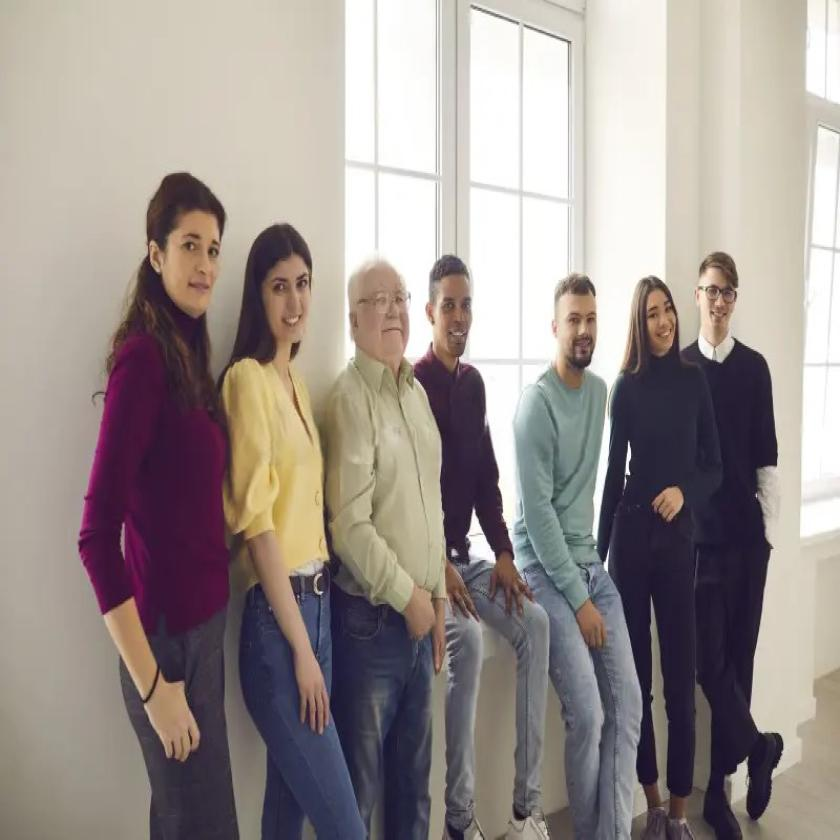Sin_casco: (139, 158, 228, 323), (246, 217, 322, 352), (342, 252, 416, 378), (425, 255, 477, 369), (697, 234, 748, 336), (627, 272, 687, 358), (551, 264, 598, 371)
